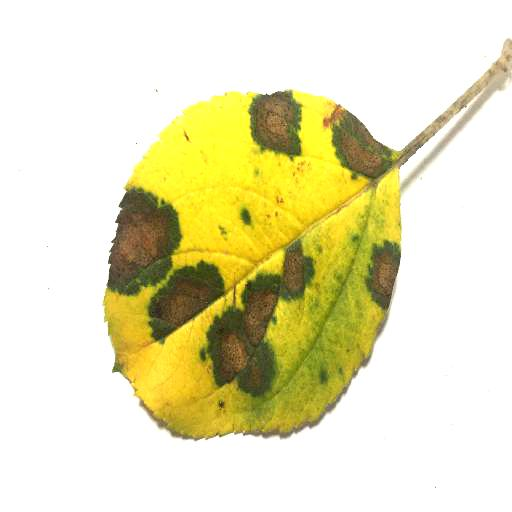Brown_Spot: (212, 286, 273, 384), (107, 201, 165, 293), (331, 108, 391, 180), (150, 266, 211, 329), (246, 92, 299, 160), (271, 237, 309, 295), (364, 243, 394, 300)
